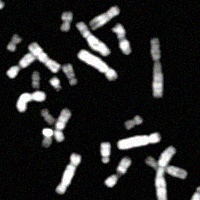chromosome: (78, 48, 118, 81), (75, 21, 110, 56), (155, 146, 176, 200), (145, 155, 187, 180), (56, 153, 81, 194), (28, 41, 61, 72), (149, 38, 164, 98), (7, 49, 38, 78), (105, 158, 132, 188), (89, 6, 120, 29), (117, 133, 160, 149), (17, 91, 45, 113), (112, 23, 131, 54), (54, 109, 71, 142), (62, 63, 77, 86), (59, 10, 73, 31), (41, 108, 56, 125), (100, 140, 111, 163), (40, 128, 52, 149), (7, 34, 21, 51), (125, 115, 143, 128), (50, 76, 61, 92), (31, 70, 40, 89), (190, 184, 200, 200), (0, 0, 5, 11)
